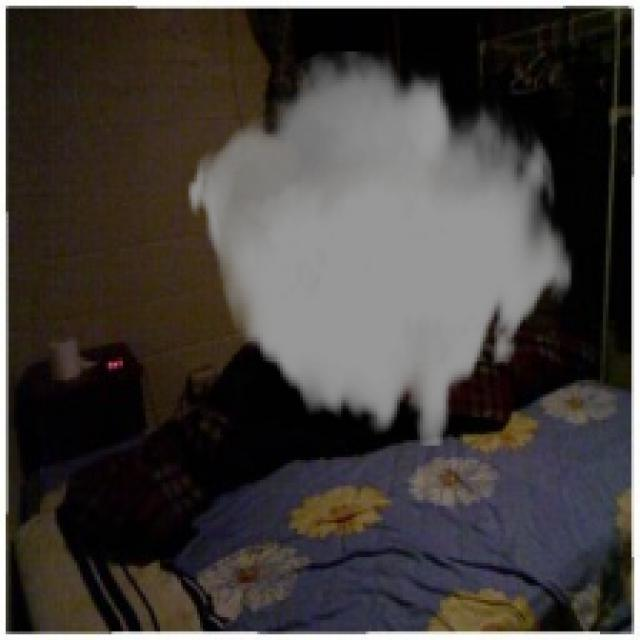Smoke: (186, 51, 574, 446)
